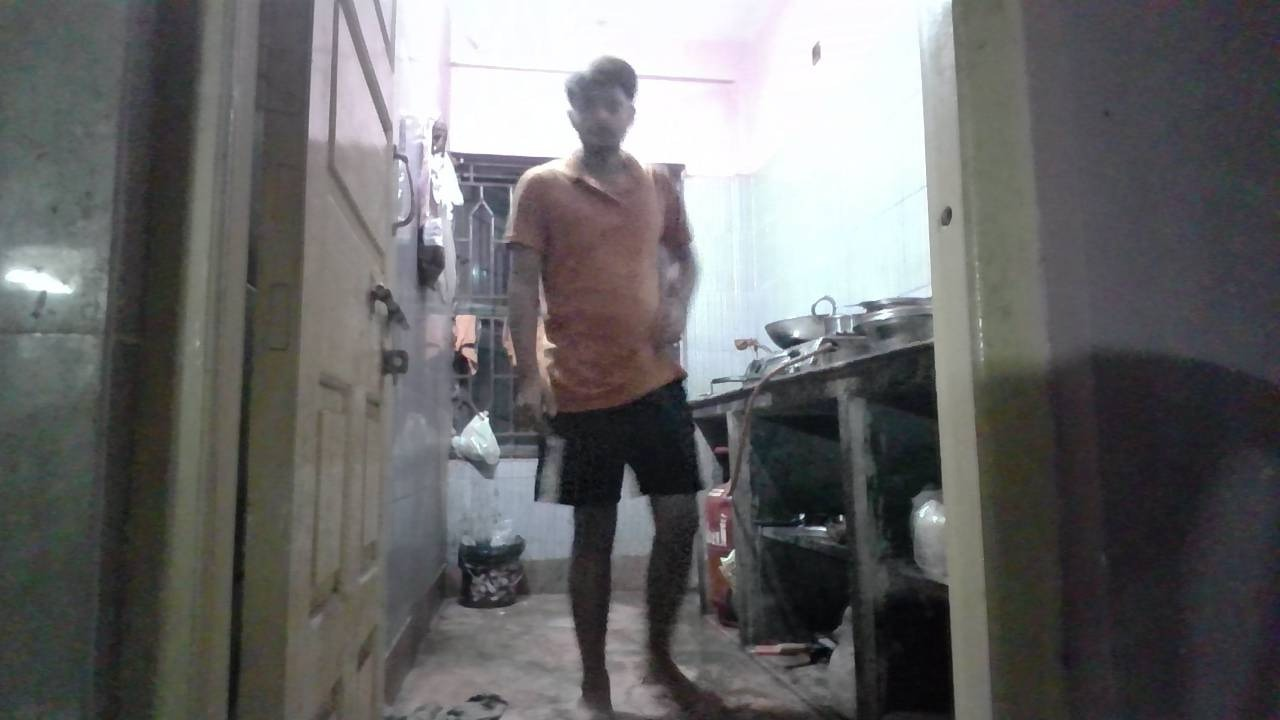red_box: (584, 351, 638, 406)
